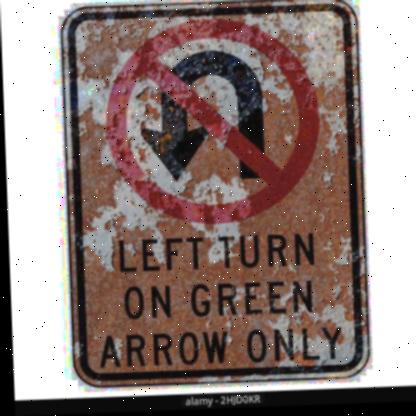No U-turn: (88, 9, 354, 233)
